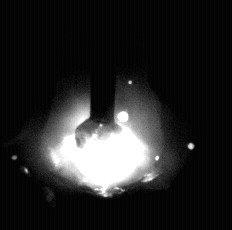arame: (91, 0, 116, 135)
poca: (41, 0, 164, 230)
